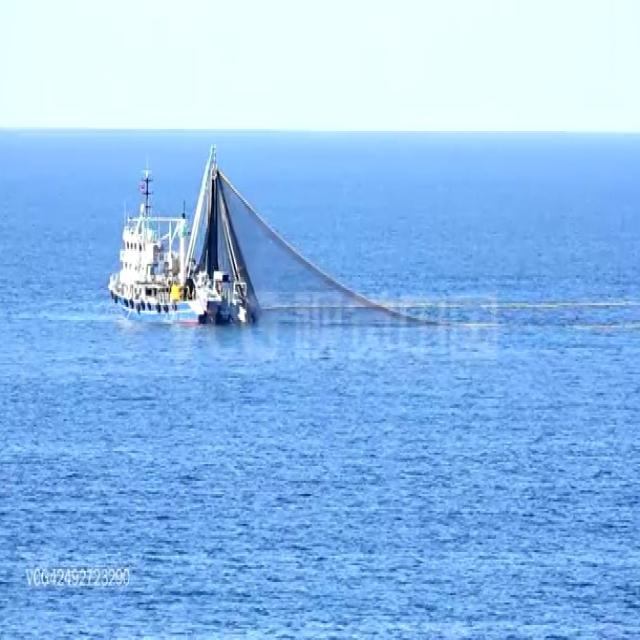fishing boat: (103, 156, 244, 331)
